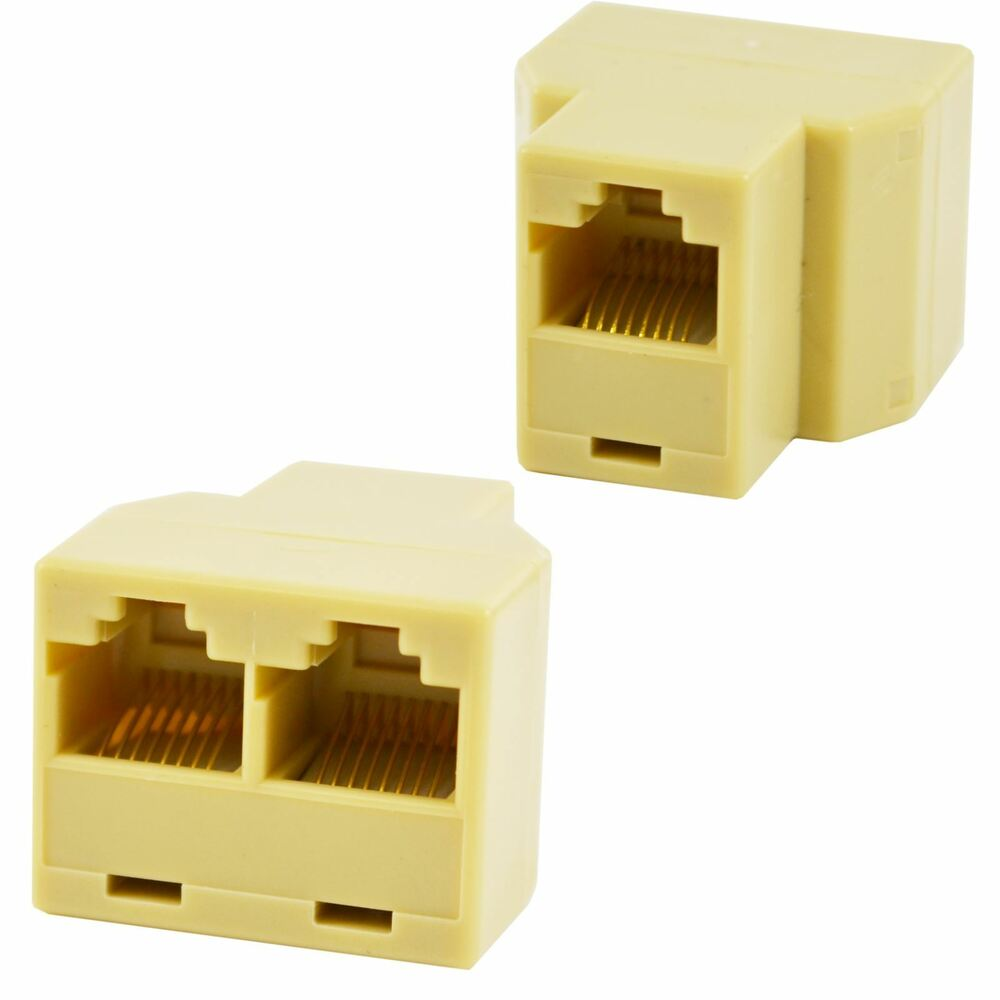lan: (250, 603, 469, 822), (43, 575, 250, 783), (528, 168, 735, 358)
